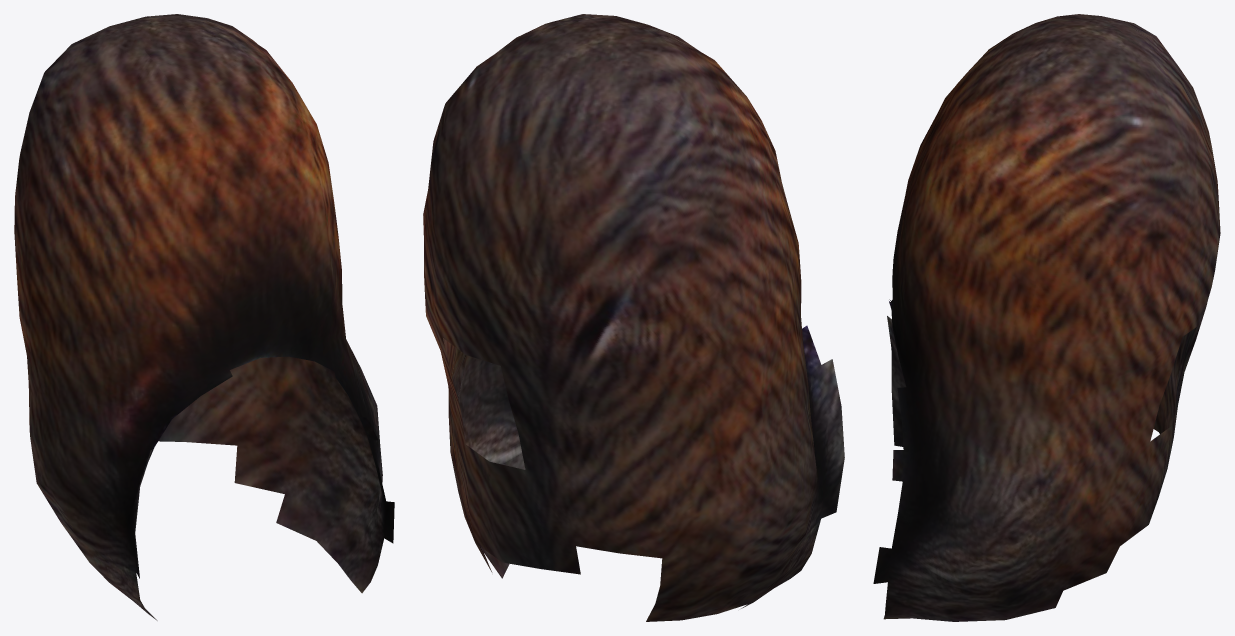
The model's file is cola.obj.
The picture shows the model from 3 angles, left to right: view 1: azimuth 30°, elevation 25°; view 2: azimuth 150°, elevation 25°; view 3: azimuth 270°, elevation 25°; orthographic projection. The views are drawn at different scales.
Parts seen in each view (by area): view 1: cola; view 2: cola; view 3: cola.
Part boxes in pixels (<box>): cola: <box>14,14,394,620</box>; cola: <box>423,14,844,621</box>; cola: <box>873,14,1220,621</box>.
Size of the model in its own units: 1.39 by 2.22 by 1.31.
Materials: 1 (1 with a texture image).
